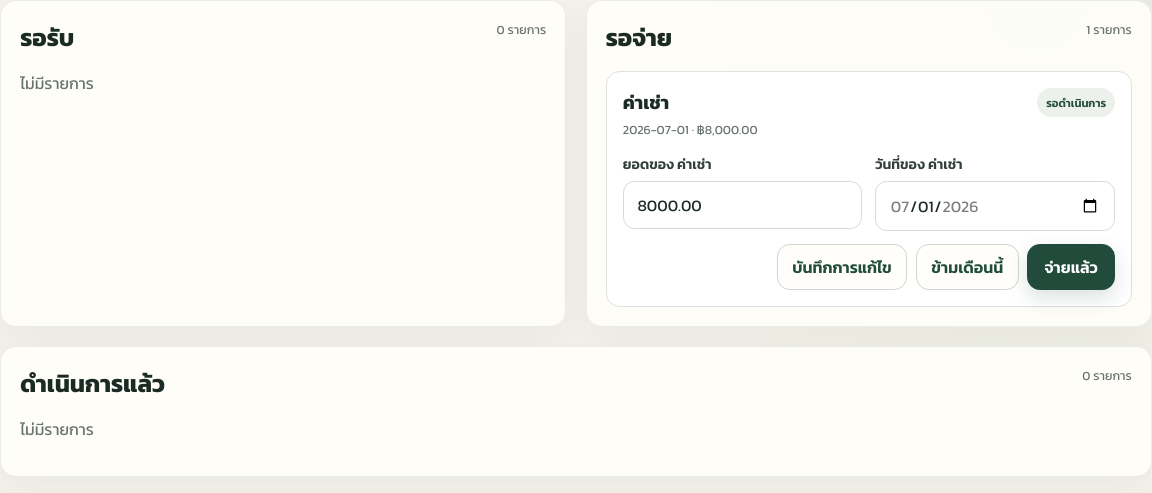
RecurringOccurrenceList › disables the posting action while the request is pending
Step 1. Click the button with aria-label "จ่ายแล้ว ค่าเช่า" → (1071, 267), box [1028,244,1115,290]
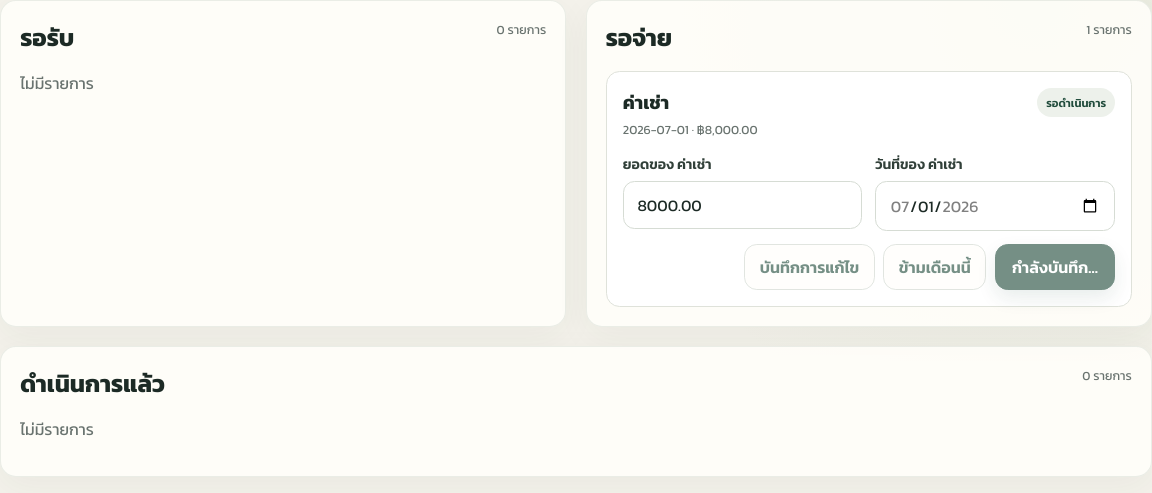
Result: the button with aria-label "จ่ายแล้ว ค่าเช่า" is disabled at [995,244,1115,290]
